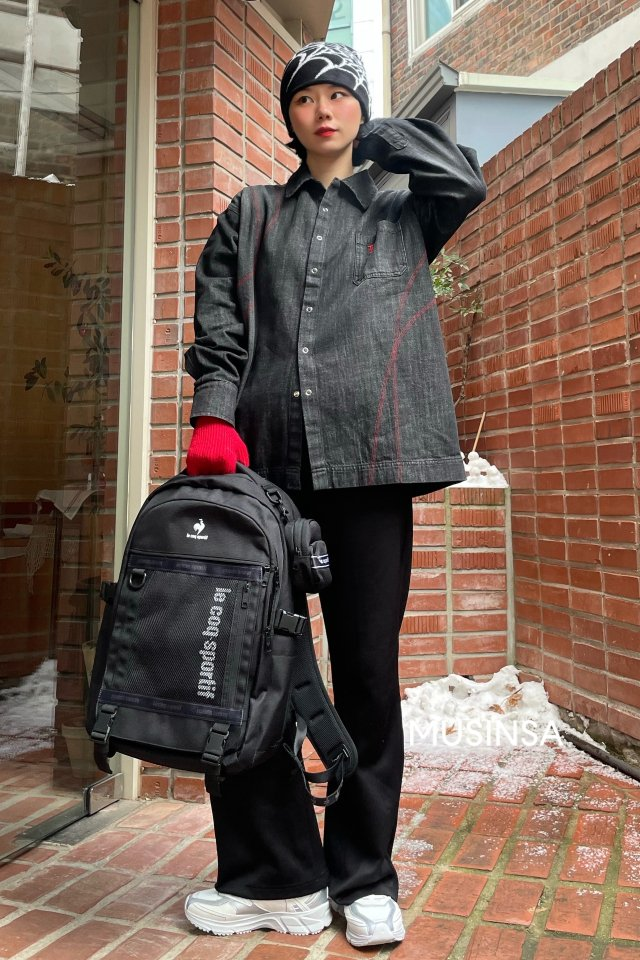Backpack: (94, 470, 351, 790)
Beanie: (273, 41, 371, 111)
Pants: (234, 402, 404, 892)
Shoes: (180, 873, 417, 949)
Skirt: (199, 169, 474, 485)
